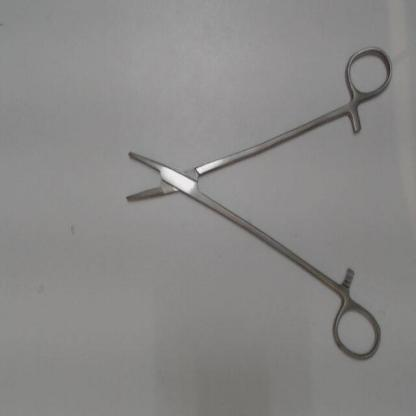8 Mayo Needle Holder: (113, 34, 398, 366)
